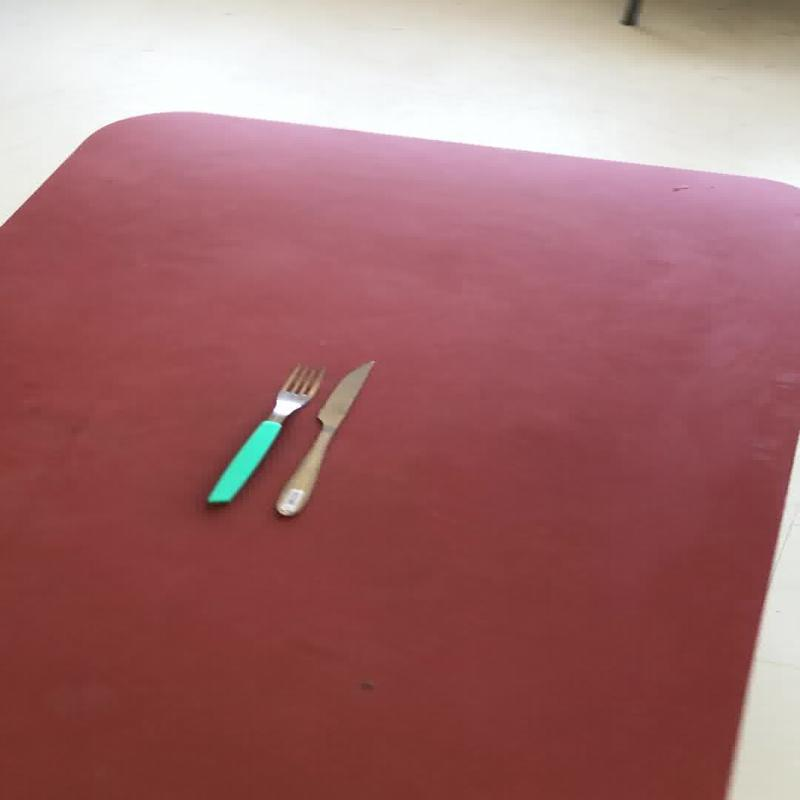fork: (204, 364, 324, 504)
knife: (272, 358, 376, 516)
